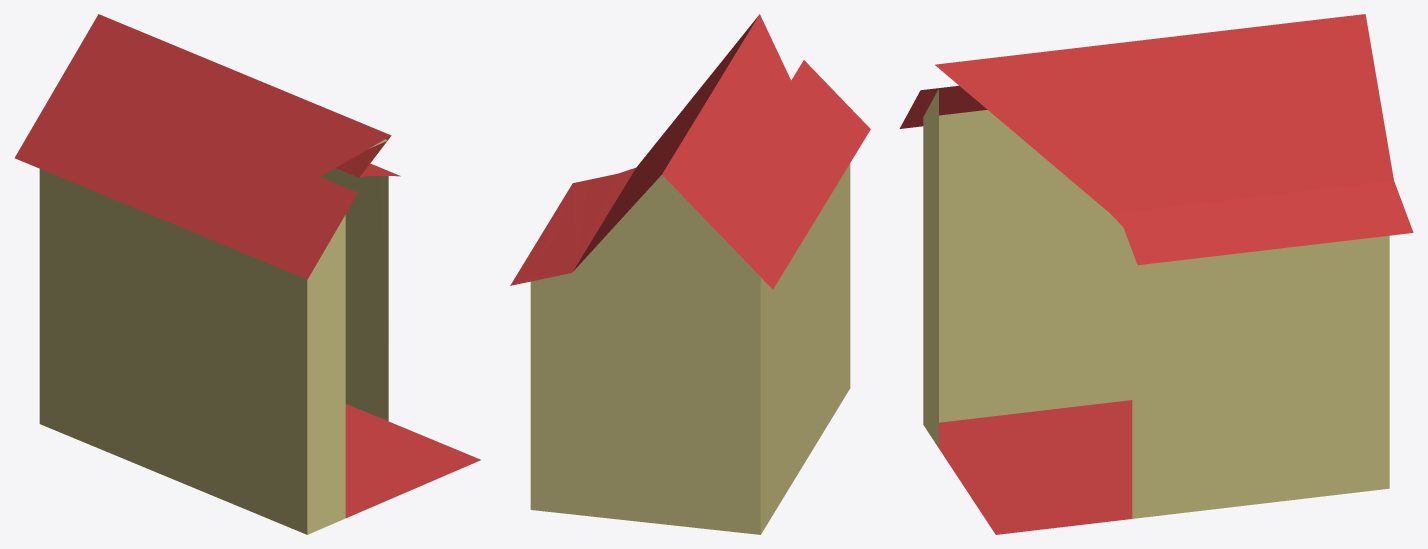
3 renders of one model, left to right at view 1: azimuth 30°, elevation 25°; view 2: azimuth 150°, elevation 25°; view 3: azimuth 270°, elevation 25°, orthographic. The views are drawn at different scales.
Size of the model in its own units: 10.22 by 13.31 by 11.64.
